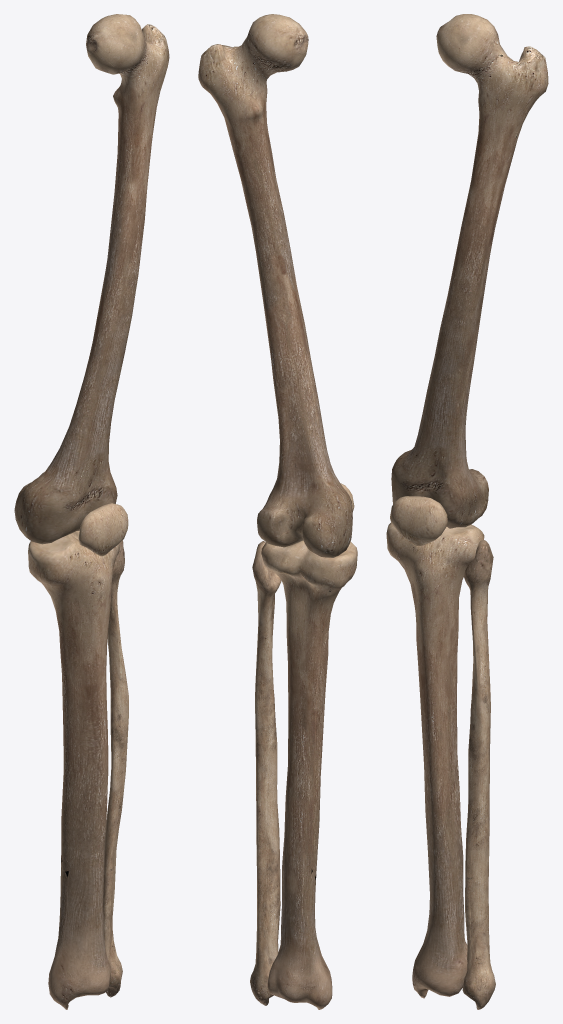
The model's file is Legs.139.obj.
The picture shows the model from 3 angles, left to right: view 1: azimuth 30°, elevation 25°; view 2: azimuth 150°, elevation 25°; view 3: azimuth 330°, elevation 25°; orthographic projection.
Parts seen in each view (by area): view 1: Legs.139_Arms.139; view 2: Legs.139_Arms.139; view 3: Legs.139_Arms.139.
Part boxes in pixels (x1,y1,x2,y2): Legs.139_Arms.139: (14, 14, 169, 1009); Legs.139_Arms.139: (198, 14, 357, 1009); Legs.139_Arms.139: (386, 14, 548, 1009).
Bounding box in the file's own units: 0.7338 × 4.75 × 0.4693.
